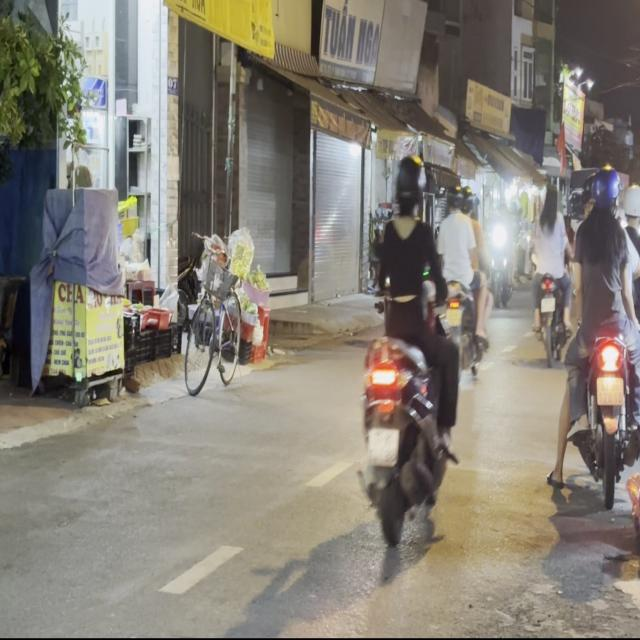helmet: (391, 154, 423, 215), (590, 165, 619, 212), (622, 182, 640, 223)
licenseplate: (353, 151, 461, 573), (548, 161, 640, 499)
nohelmet: (366, 428, 398, 463), (596, 375, 623, 404)
